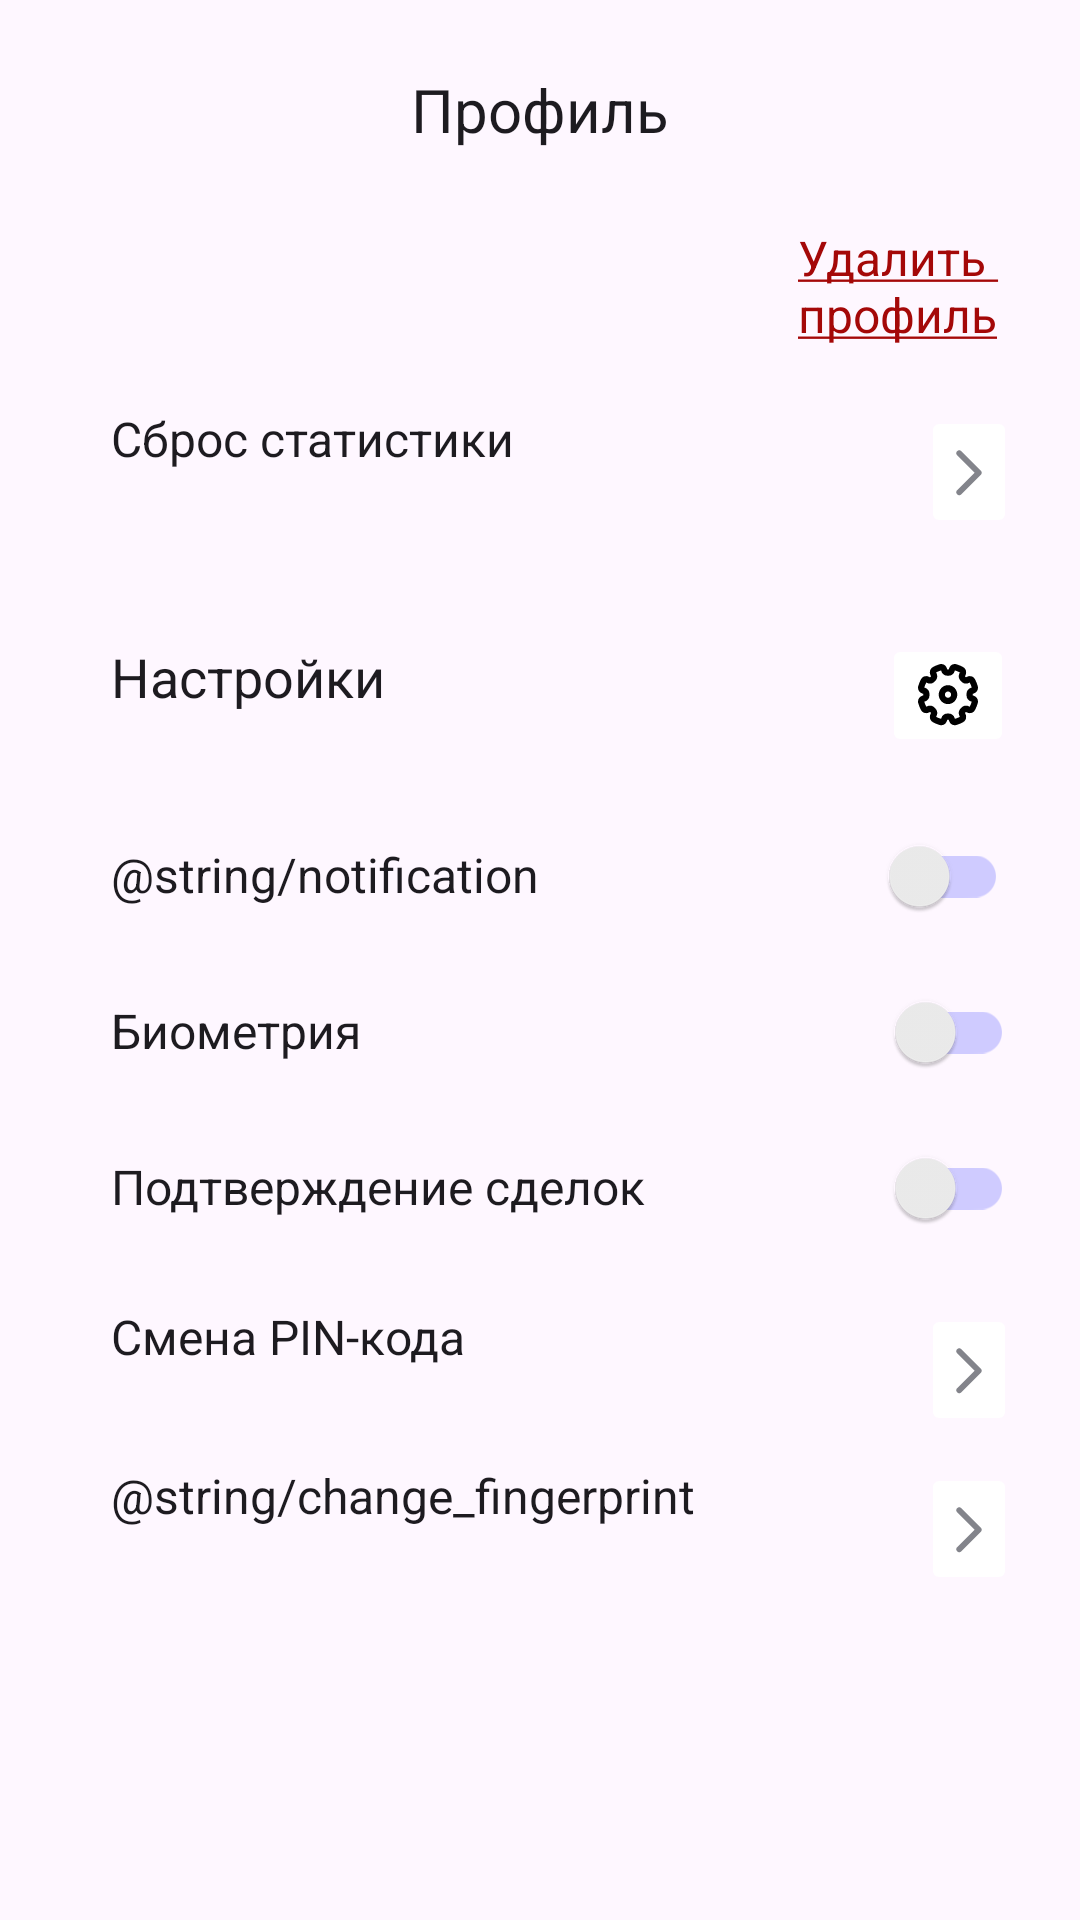

Icon bounding boxes for this 1080 × 1920 phone screenshot, format (x1, y1, x2, y2):
arrow right: (956, 450, 982, 496), (956, 1348, 982, 1394), (956, 1507, 982, 1553)
gear: (918, 664, 978, 726)
